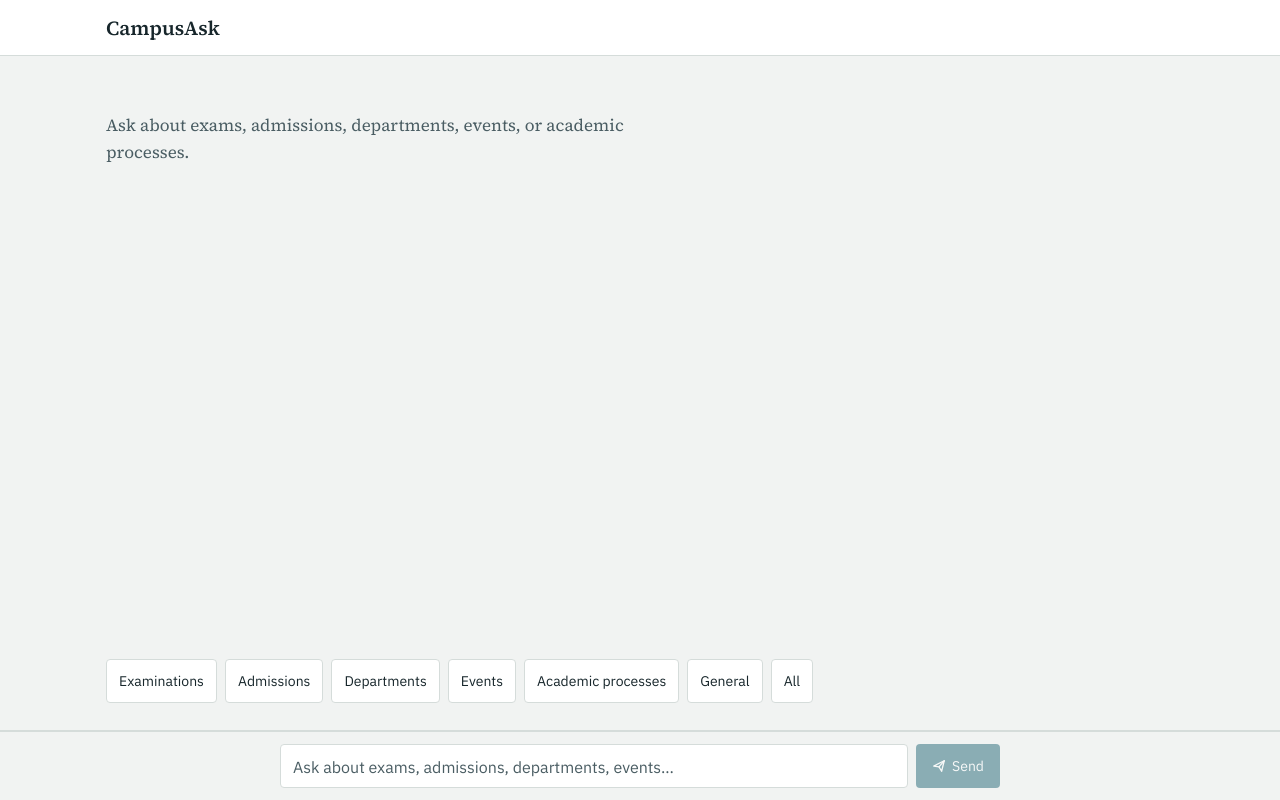
Chat › offers a retry when the request itself failed
Expected: the radio button labelled "Admissions" is shown, left=225, top=659, right=323, bottom=703
Type "When are marks published?" into the text box at (594, 766), box left=280, top=744, right=908, bottom=788
Then press Enter
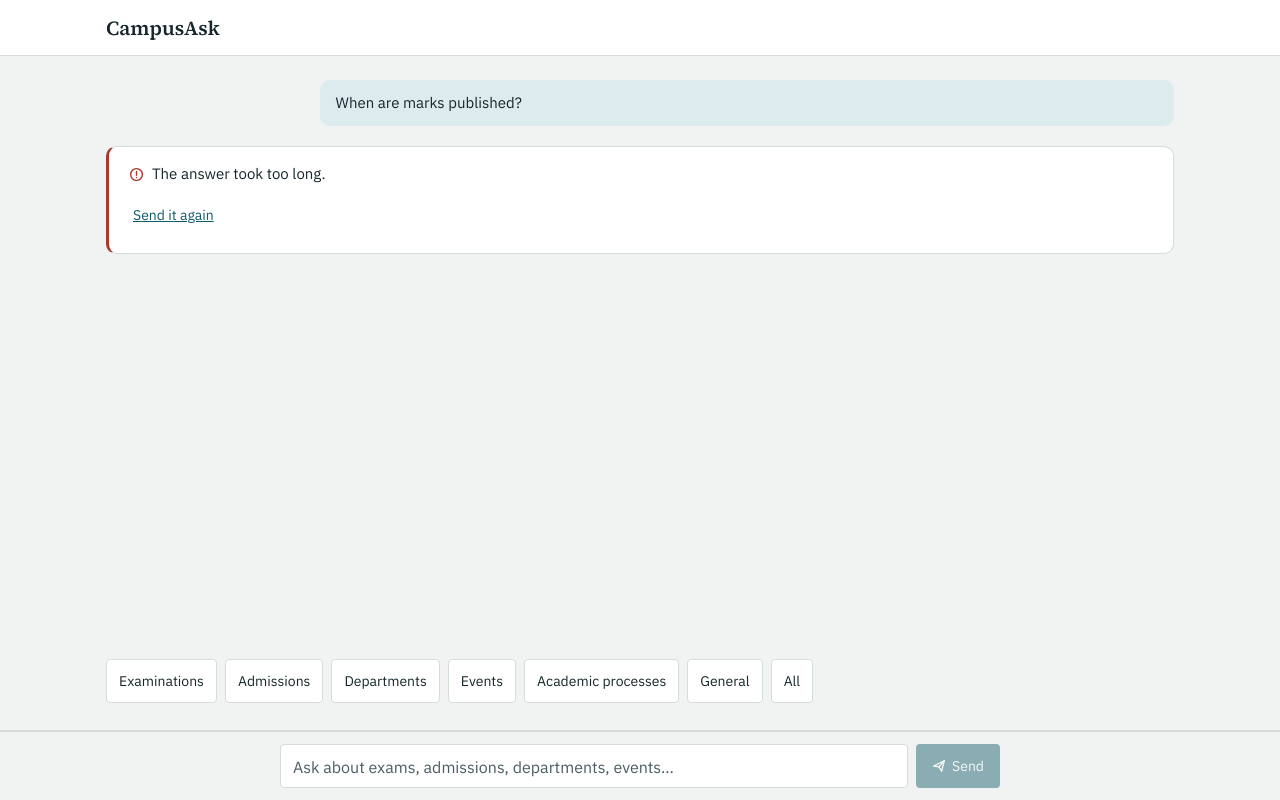
Result: the message shows "The answer took too long." at left=152, top=164, right=326, bottom=183
Click the button "Send it again" at (173, 215), box left=129, top=193, right=218, bottom=237
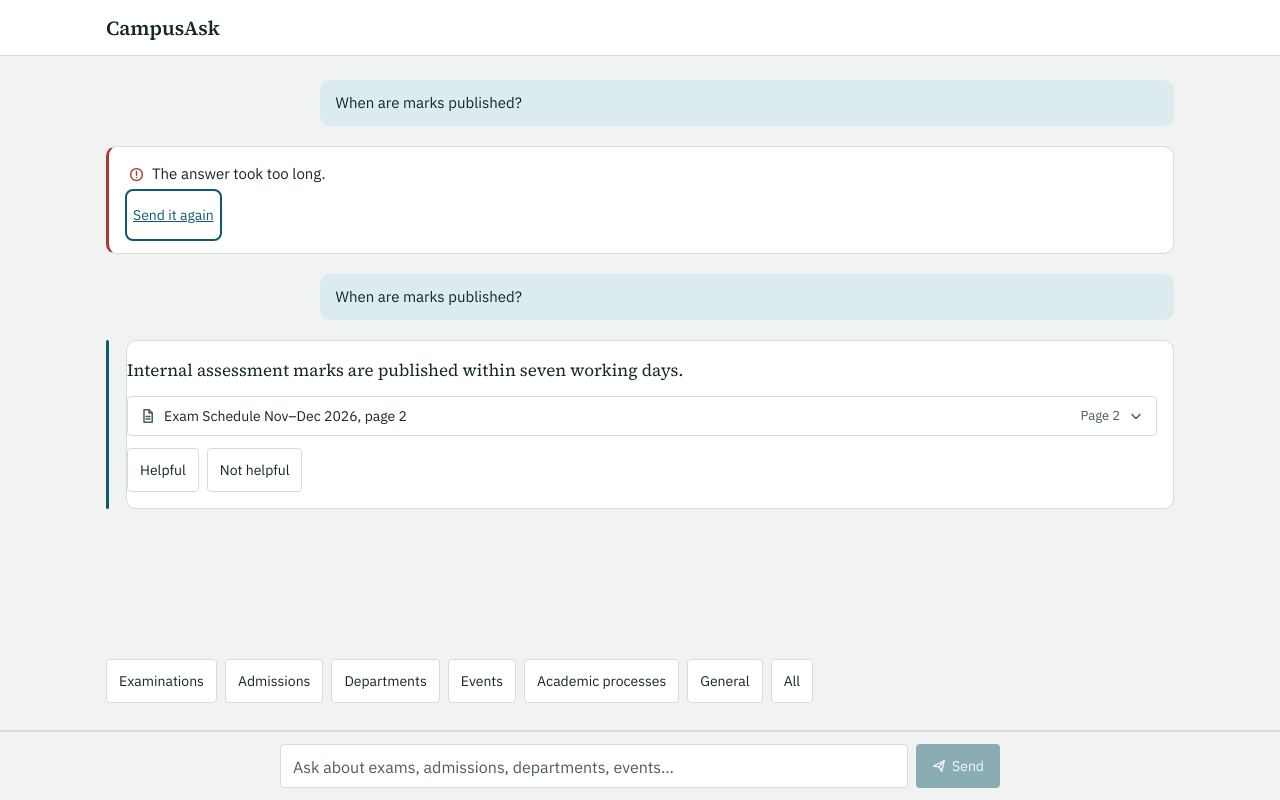
Result: the text "Internal assessment marks are published within seven working days." is shown at left=127, top=357, right=712, bottom=384
